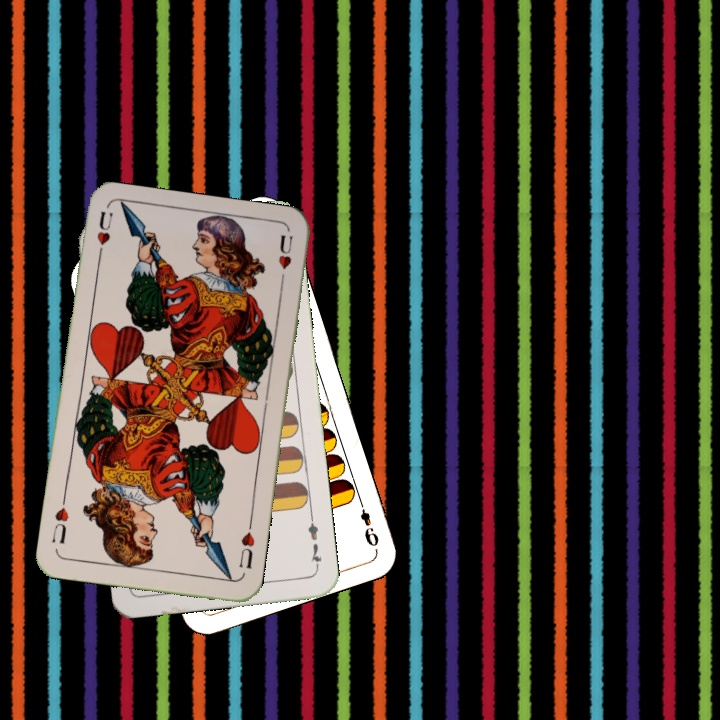E7: (304, 513, 325, 572)
E9: (354, 495, 382, 550)
HU: (92, 207, 116, 265), (235, 519, 258, 571)
